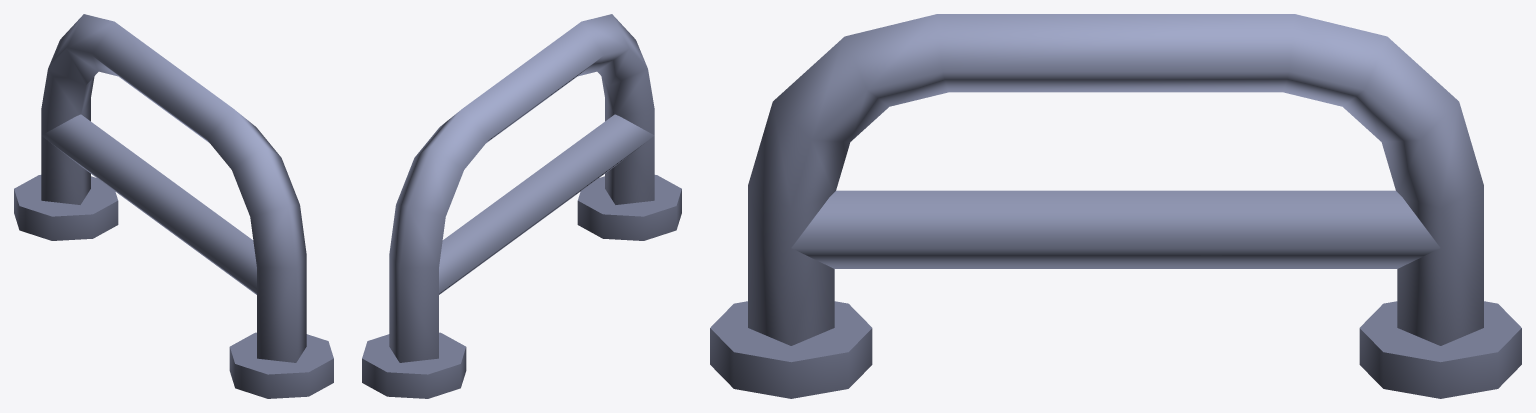
The model's file is c_fence.fbx.
3 views of the same model, side by side, from view 1: azimuth 30°, elevation 25°; view 2: azimuth 150°, elevation 25°; view 3: azimuth 270°, elevation 25° (orthographic). The views are drawn at different scales.
Parts seen in each view (by area): view 1: construction-fence; view 2: construction-fence; view 3: construction-fence.
Boxes of the visible parts, x1,y1,x2,y2 form: construction-fence: [14, 14, 333, 398]; construction-fence: [362, 14, 681, 398]; construction-fence: [710, 14, 1521, 398].
Size of the model in its own units: 0.2 by 0.4767 by 1.
